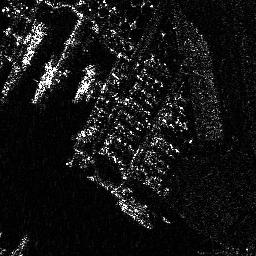ship: (71, 61, 98, 105), (34, 56, 56, 102)
